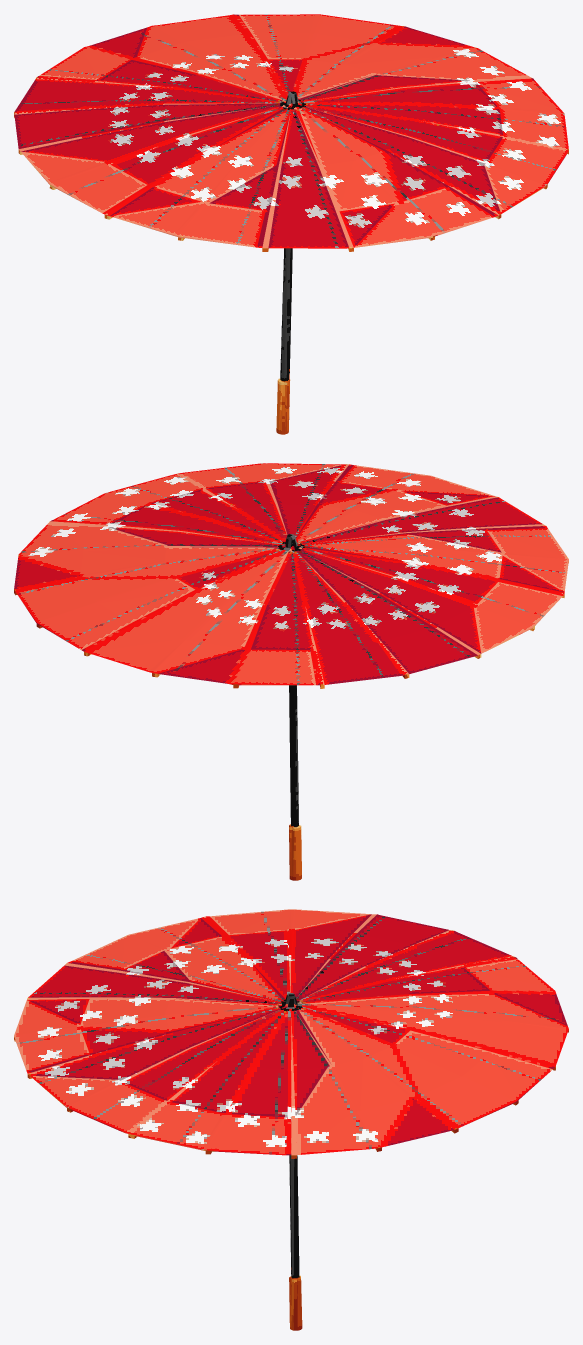
The model's file is kasa.glb.
3 renders of one model, top to bottom at view 1: azimuth 30°, elevation 25°; view 2: azimuth 150°, elevation 25°; view 3: azimuth 270°, elevation 25°, orthographic.
Visible parts, largest first — view 1: model_m; view 2: model_m; view 3: model_m.
Part boxes in pixels (bbox=[...]): model_m: bbox=[14, 14, 568, 434]; model_m: bbox=[14, 463, 568, 880]; model_m: bbox=[14, 909, 568, 1330].
Bounding box in the file's own units: 30 × 20.11 × 30.
1 material, 1 textured.
